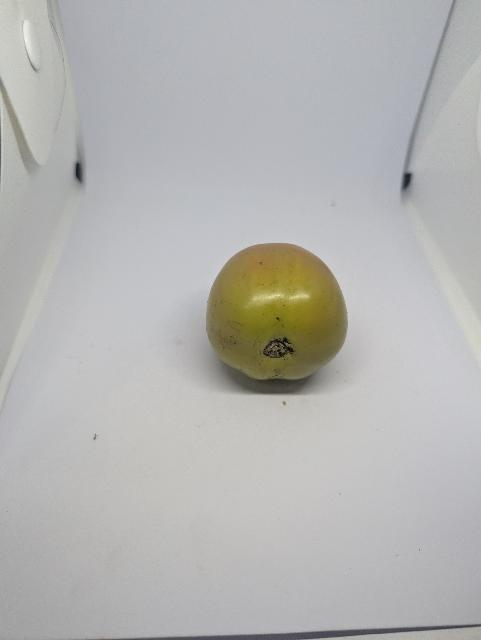breaker: (202, 241, 354, 389)
